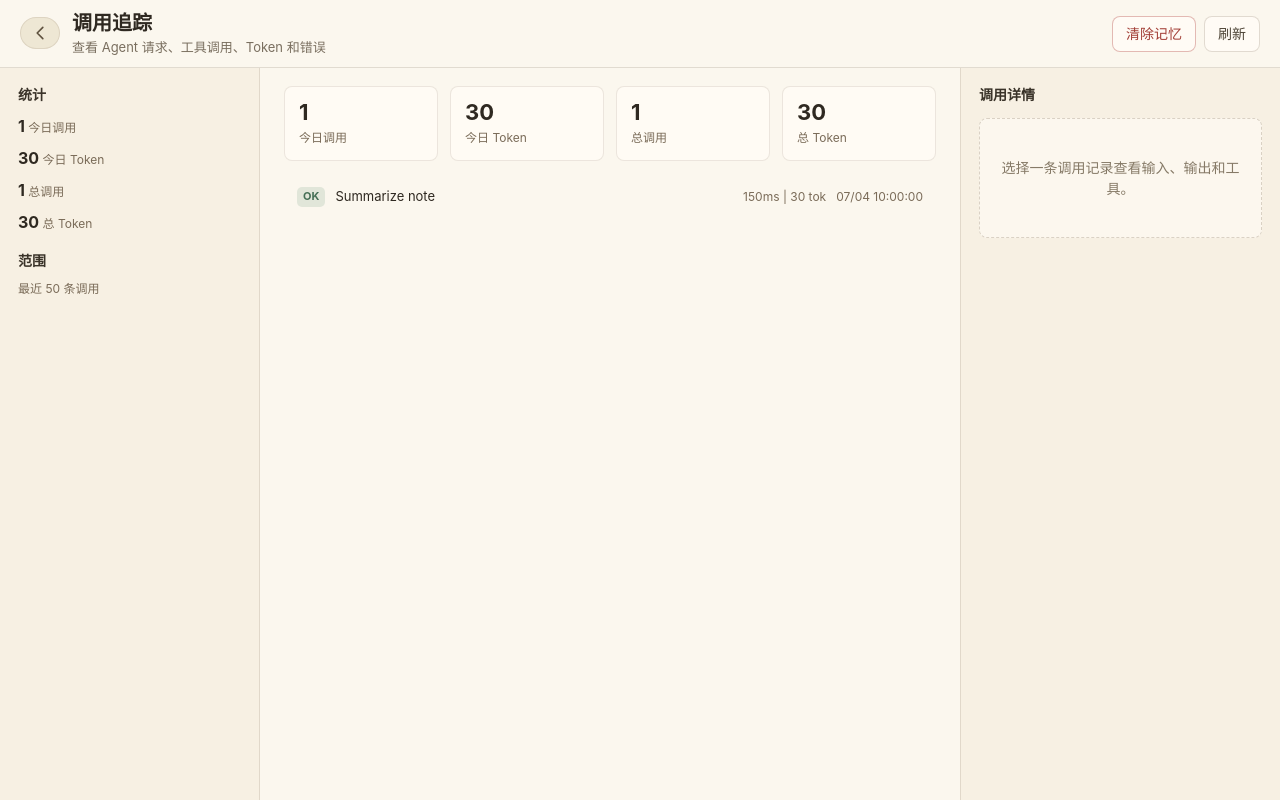
core component behavior › TracesPanel shows selected trace details in the workbench detail panel
Expected: the text "Summarize note" is shown, [335,188,435,204]
Click the button with aria-label "Select trace" at (385, 196), box [284,175,936,219]
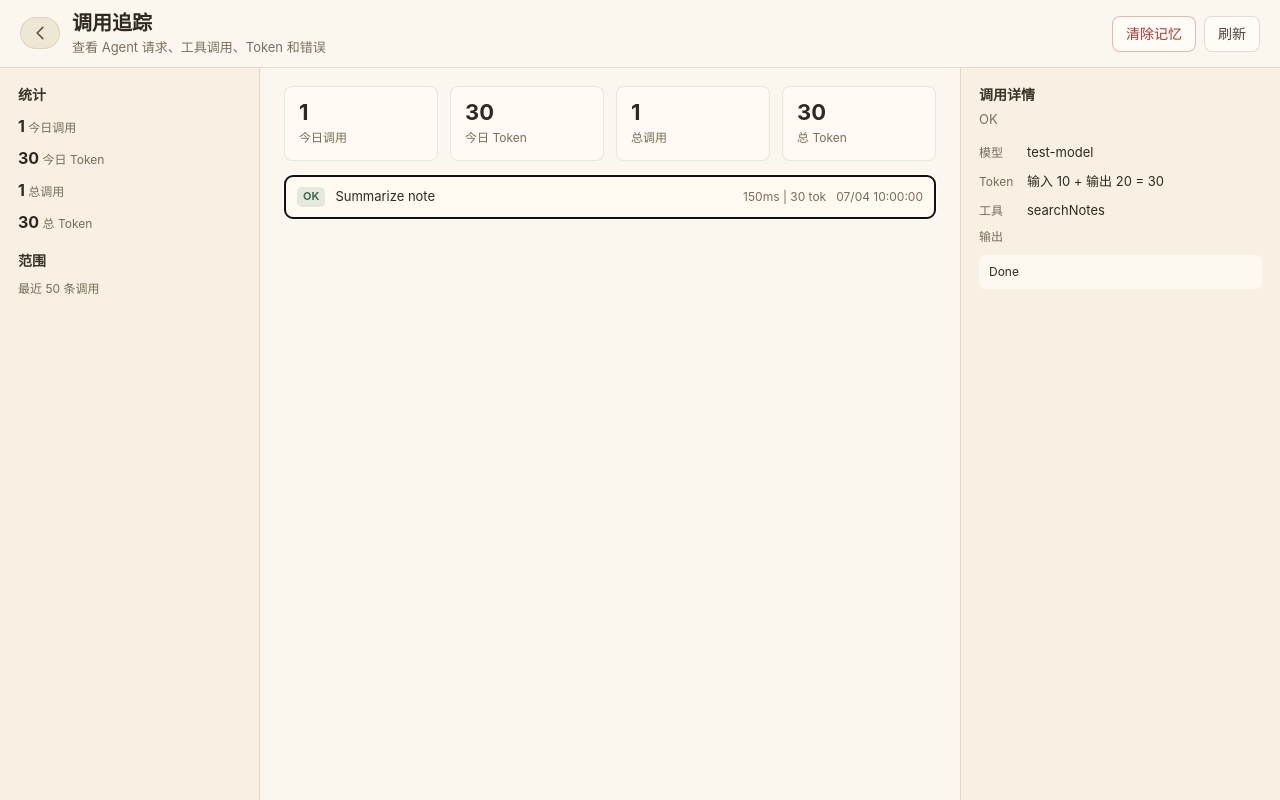
Expected: the element "调用详情" shows "test-model", [1027,144,1093,160]
Expected: the element "调用详情" shows "searchNotes", [1027,202,1105,218]
